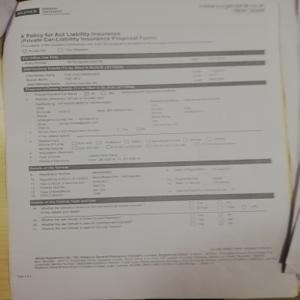image: (13, 7, 40, 16)
table: (29, 159, 273, 195)
text: (35, 248, 277, 271), (20, 30, 212, 51)
